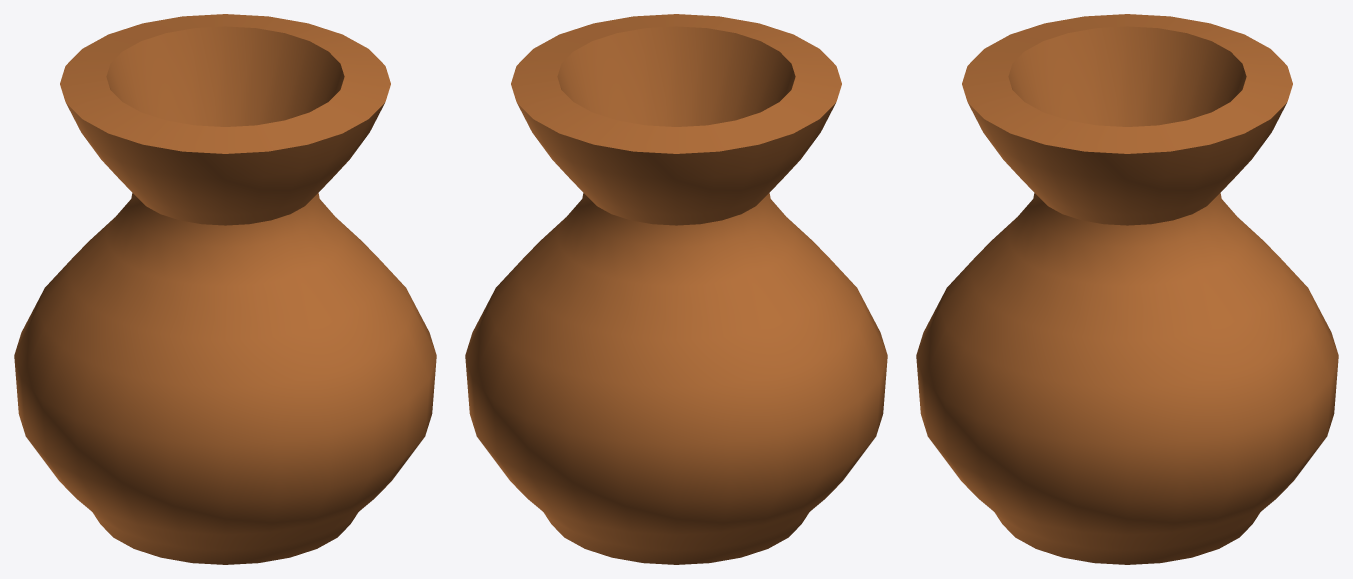
The model's file is potB.obj.
3 renders of one model, left to right at view 1: azimuth 30°, elevation 25°; view 2: azimuth 150°, elevation 25°; view 3: azimuth 270°, elevation 25°, orthographic.
Parts seen in each view (by area): view 1: potB_Cylinder.015; view 2: potB_Cylinder.015; view 3: potB_Cylinder.015.
Part boxes in pixels (bbox=[...]): potB_Cylinder.015: bbox=[14, 14, 436, 564]; potB_Cylinder.015: bbox=[465, 14, 887, 564]; potB_Cylinder.015: bbox=[916, 14, 1338, 564].
Bounding box in the file's own units: 0.8406 × 0.9517 × 0.8406.
